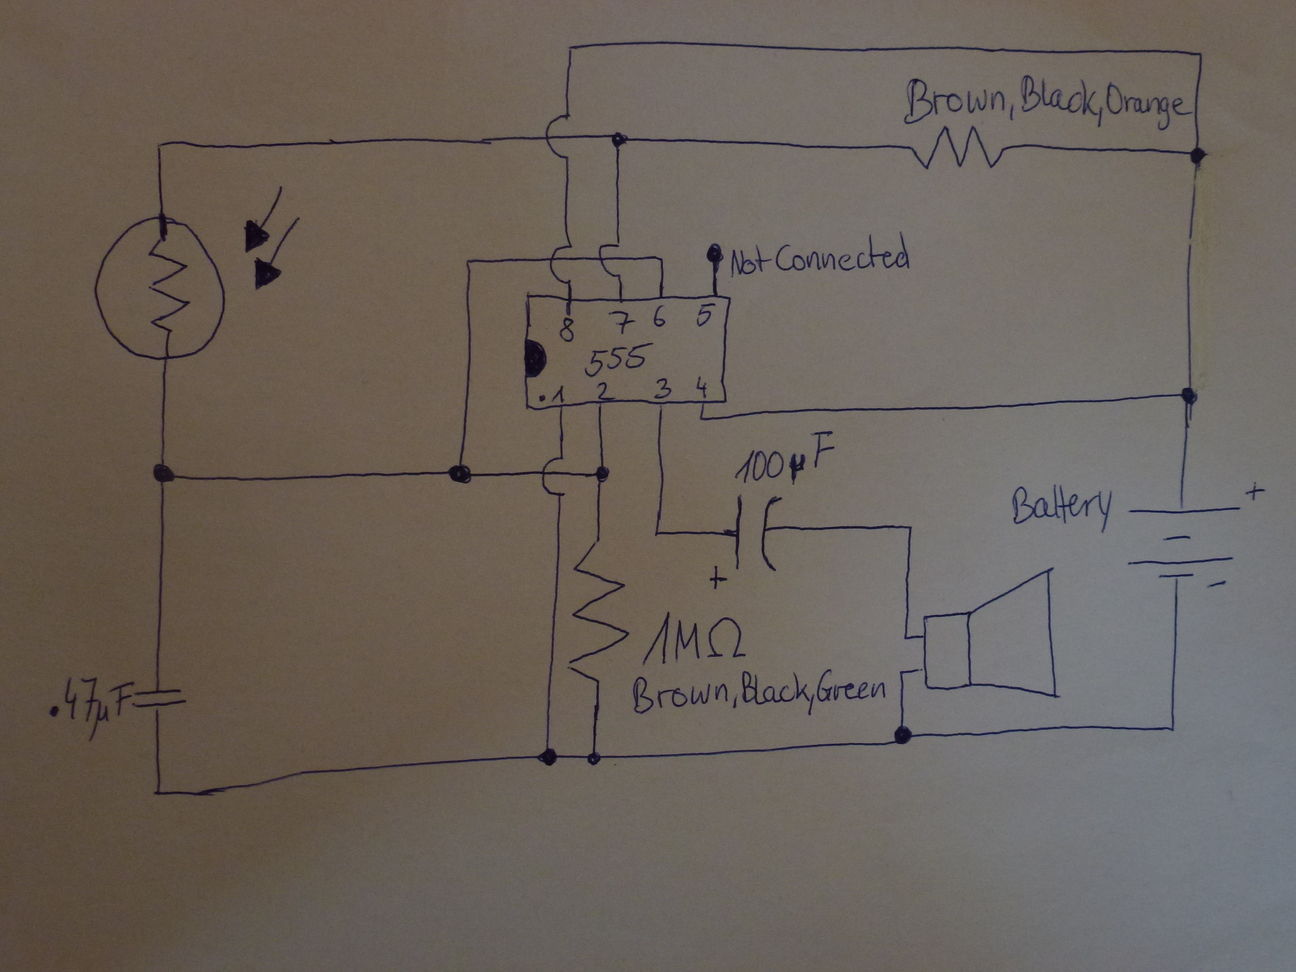capacitor.polarized: (705, 492, 785, 593)
capacitor.unpolarized: (132, 684, 190, 713)
crossover: (537, 455, 578, 499), (540, 109, 574, 158), (545, 243, 578, 286), (594, 239, 627, 282)
integrated_circuit: (522, 292, 733, 412)
junction: (148, 458, 181, 488), (534, 740, 563, 770), (889, 721, 915, 749), (1184, 142, 1212, 168), (447, 460, 473, 486), (1178, 381, 1201, 407), (581, 745, 606, 769), (606, 125, 628, 151), (590, 461, 613, 485), (147, 780, 170, 801), (560, 38, 582, 58), (151, 135, 171, 155), (900, 519, 918, 535), (1164, 720, 1181, 736), (650, 526, 665, 541), (1193, 45, 1207, 61), (652, 252, 666, 264), (462, 255, 475, 269), (895, 667, 908, 679), (697, 414, 707, 425), (901, 631, 910, 643)
resistor: (565, 533, 631, 684), (905, 123, 1009, 172)
resistor.photo: (89, 181, 305, 367)
speaker: (918, 563, 1064, 704)
terminal: (702, 240, 724, 266)
text: (902, 70, 1194, 132), (625, 666, 888, 719), (728, 227, 911, 282), (639, 607, 749, 668), (733, 429, 836, 487), (60, 673, 135, 744), (1007, 484, 1115, 533), (585, 342, 649, 379), (607, 305, 634, 335), (536, 385, 566, 405), (557, 312, 577, 342), (653, 374, 672, 399), (695, 303, 713, 325), (692, 373, 708, 396), (594, 380, 611, 400), (651, 305, 665, 326)
voltage.dc: (1121, 478, 1264, 592)
